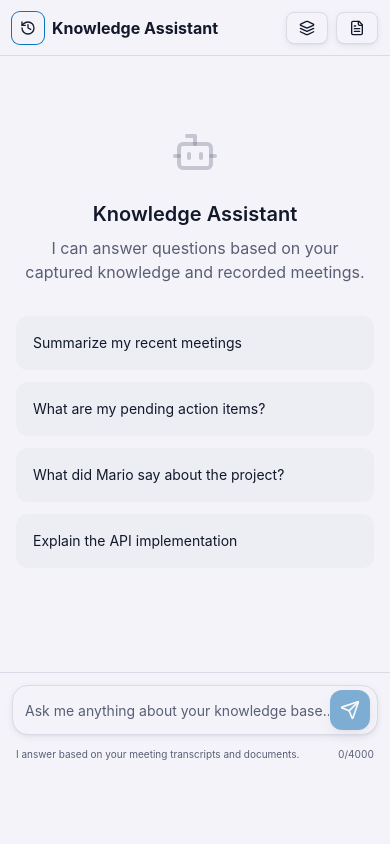
Test: Chat Component › narrow-container (overlay) adaptation › history drawer is an accessible modal: dialog semantics + initial focus inside
The width and height of the screenshot is (390, 844).
Step 1. Click the button with test id "chat-history-toggle" → {"x": 28, "y": 28}, box [12,12,44,44]
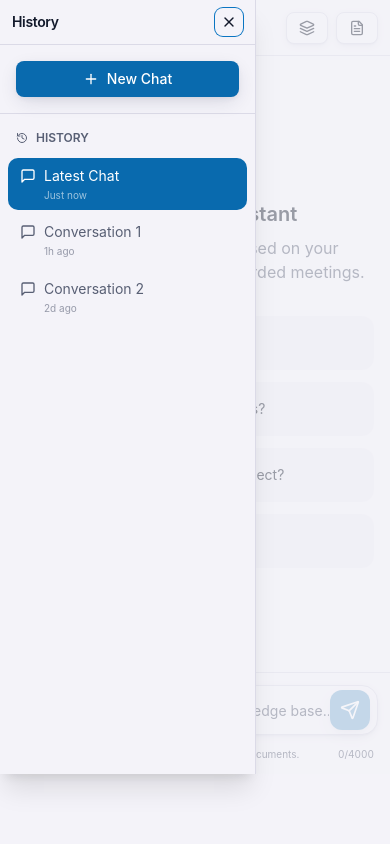
Expected: the heading "History" is shown, [12,15,59,29]
